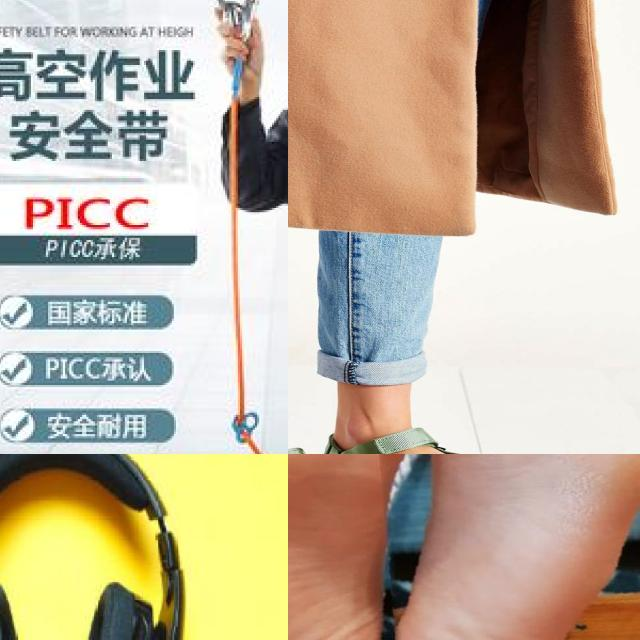Barefoots: (391, 454, 640, 640), (288, 454, 411, 640)
Ear-protection: (0, 454, 199, 640)
Sandals: (322, 402, 576, 454)
